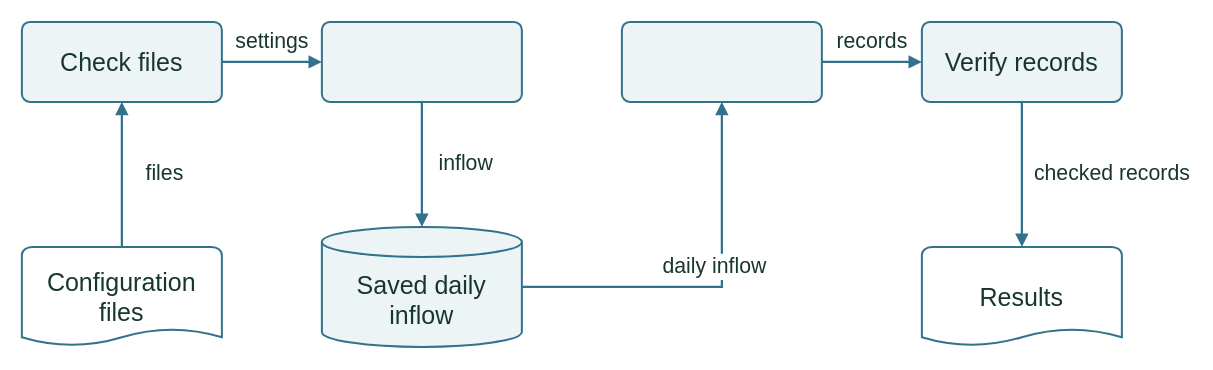
The diagram is 1213 pixels wide and 370 high, and some of its shapes have lost their labels. The box of each missing label's shape, as (x1, y1, x2, y2) in pixels:
Prepare inflow: (320, 20, 522, 102)
Run operations: (620, 20, 822, 102)
